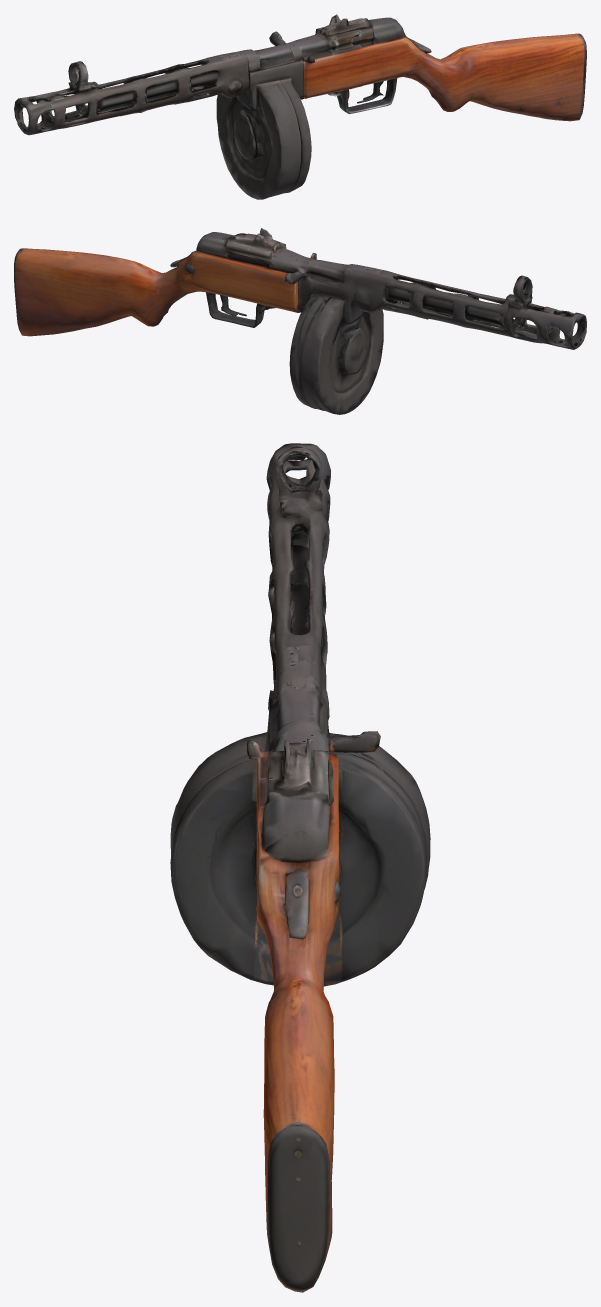
Rendered from smg_ppsh.glb.
The picture shows the model from 3 angles, top to bottom: view 1: azimuth 30°, elevation 25°; view 2: azimuth 150°, elevation 25°; view 3: azimuth 270°, elevation 25°; orthographic projection. The views are drawn at different scales.
Size of the model in its own units: 1.99 by 0.6078 by 0.4002.
1 material, 1 textured.
